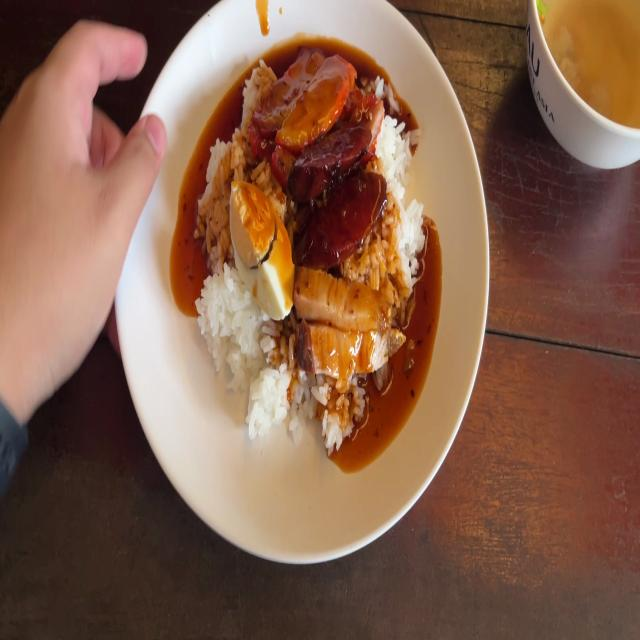01boiled_egg: (227, 182, 294, 318)
01chainese_sausage: (296, 118, 378, 260)
01crispy_pork: (301, 265, 399, 364)
01red_pork: (264, 58, 352, 162)
01red_pork_and_crispy_pork: (202, 47, 423, 433)
01rice: (203, 271, 266, 402), (240, 344, 302, 424), (195, 183, 230, 271), (208, 130, 240, 195)
